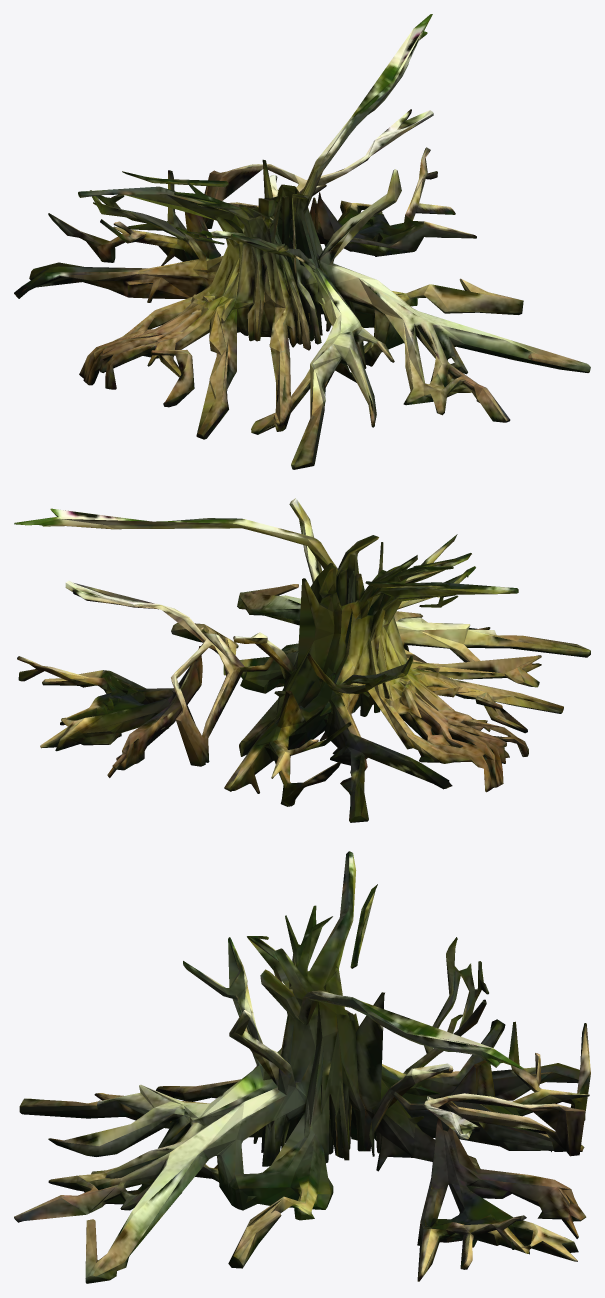
Rendered from swamp_mangrove_01.glb.
The picture shows the model from 3 angles, top to bottom: view 1: azimuth 30°, elevation 25°; view 2: azimuth 150°, elevation 25°; view 3: azimuth 270°, elevation 25°; orthographic projection. The views are drawn at different scales.
Parts seen in each view (by area): view 1: geometry_0; view 2: geometry_0; view 3: geometry_0.
Part boxes in pixels (x1,y1,x2,y2): geometry_0: (14, 14, 590, 469); geometry_0: (14, 498, 590, 822); geometry_0: (14, 851, 590, 1283).
Size of the model in its own units: 0.9717 by 0.4819 by 0.9992.
1 material, 1 textured.
